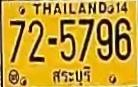2: (27, 19, 43, 61)
5: (59, 18, 75, 60)
6: (114, 17, 130, 59)
7: (9, 19, 24, 62), (78, 18, 93, 60)
9: (96, 18, 112, 60), (96, 18, 112, 59)
SBR: (49, 63, 93, 87)
